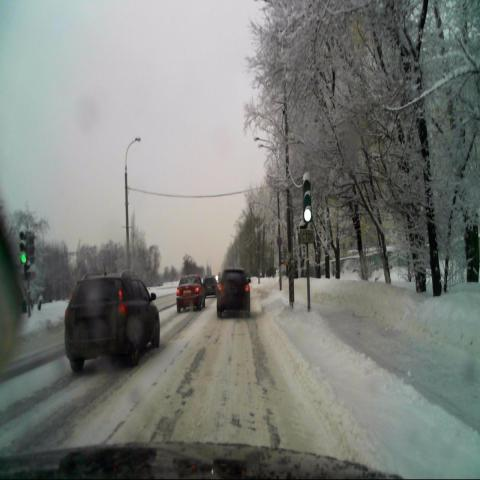6_16: (300, 229, 315, 246)
